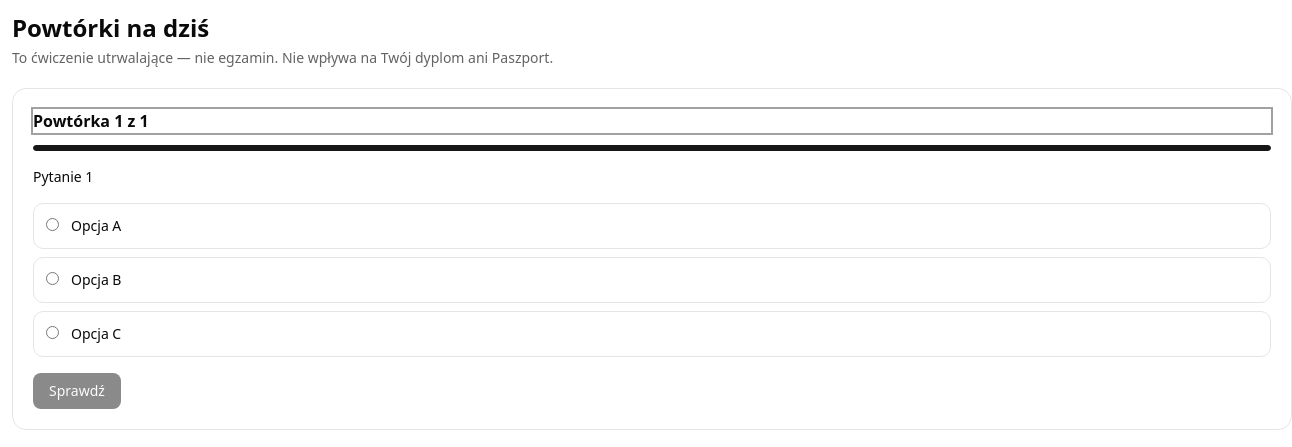
Test: ReviewRunner — ocena i werdykt › błędna odpowiedź: NEUTRALNY werdykt z API (bez rose/XCircle), fokus na przycisku dalej
Expected: the heading "Powtórka 1 z 1" is shown, [33,109,1271,133]
Click the radio button labelled "Opcja B". click: (52, 278)
box: [46,272,59,285]
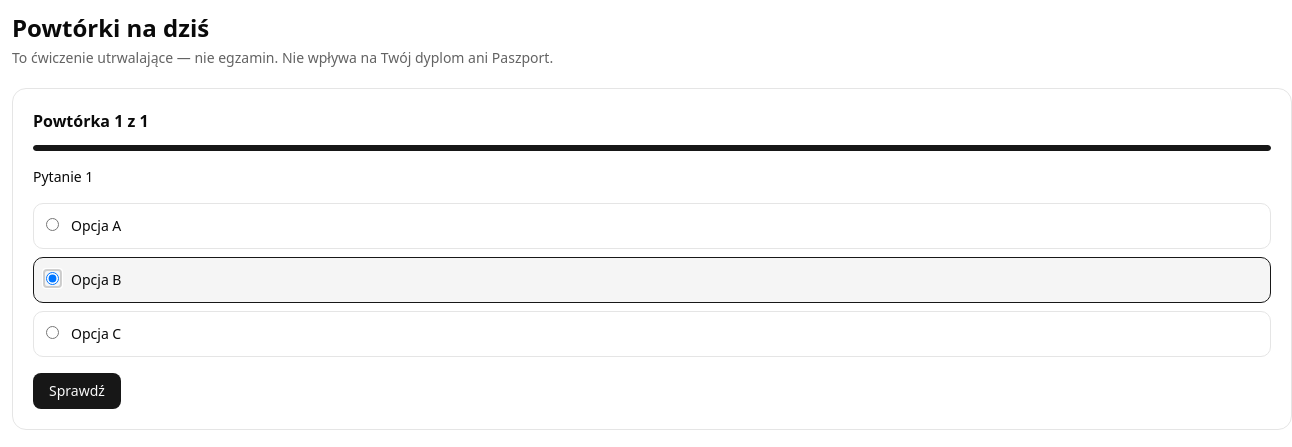
Click the button "Sprawdź". click: (77, 391)
box: [33,373,121,409]
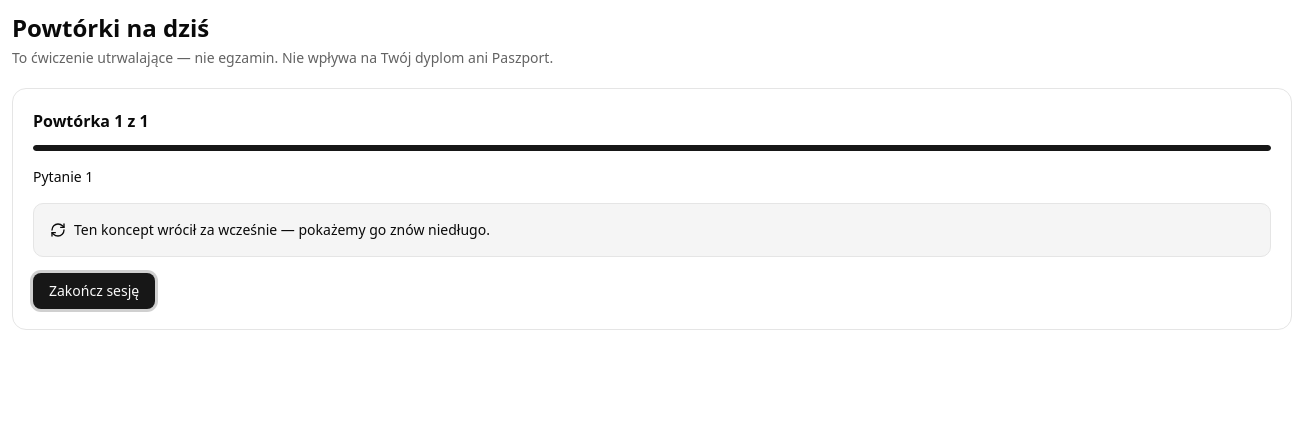
Expected: the text "Ten koncept wrócił za wcześnie — pokażemy go znów niedługo." is shown, [50,220,490,239]
